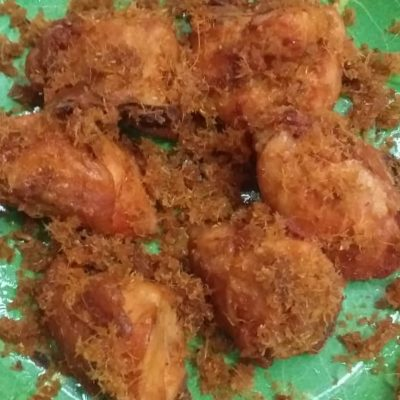Ayam: (245, 108, 399, 275), (182, 201, 334, 361), (29, 257, 196, 393), (1, 122, 169, 226), (215, 2, 350, 123)
